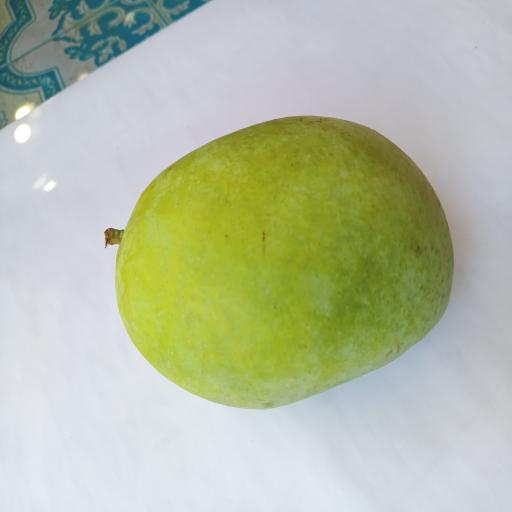mango-unripe: (73, 113, 467, 416)
